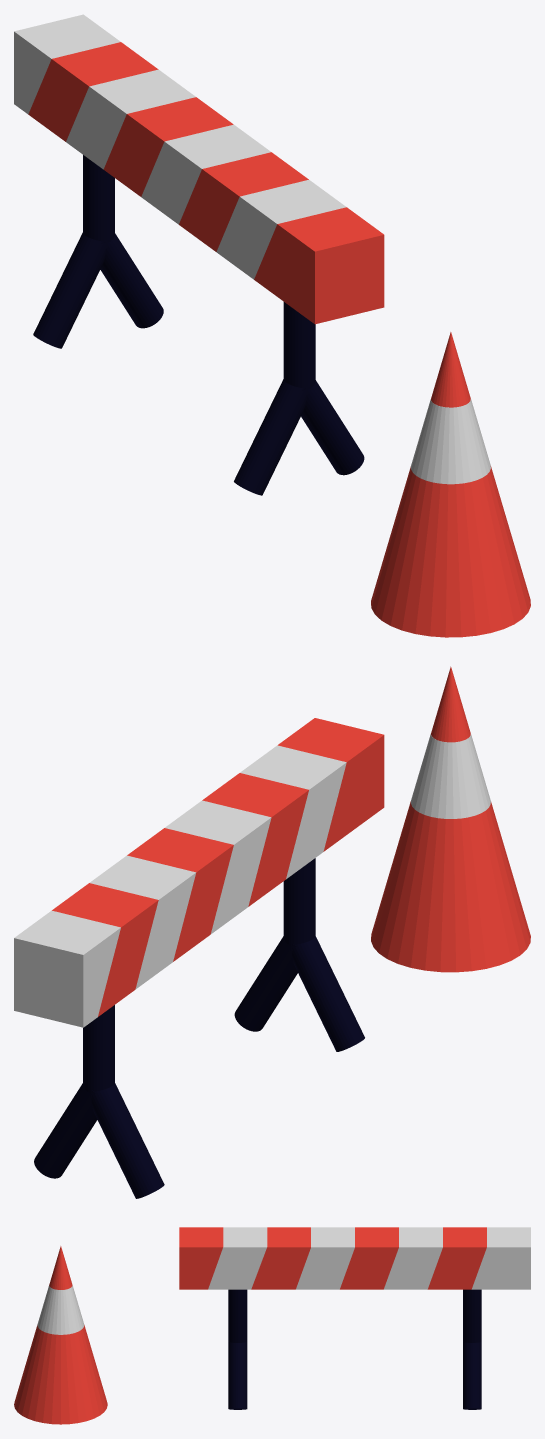
The model's file is obstacles, dont use them.fbx.
The picture shows the model from 3 angles, top to bottom: view 1: azimuth 30°, elevation 25°; view 2: azimuth 150°, elevation 25°; view 3: azimuth 270°, elevation 25°; orthographic projection. The views are drawn at different scales.
Parts seen in each view (by area): view 1: Hurdle, Cones; view 2: Hurdle, Cones; view 3: Hurdle, Cones.
Boxes of the visible parts, x1,y1,x2,y2 form: Hurdle: (14,14,384,495); Cones: (371,332,530,637); Hurdle: (14,718,384,1198); Cones: (371,666,530,972); Hurdle: (179,1227,530,1409); Cones: (14,1246,107,1424).
Bounding box in the file's own units: 40 × 78.75 × 220.
